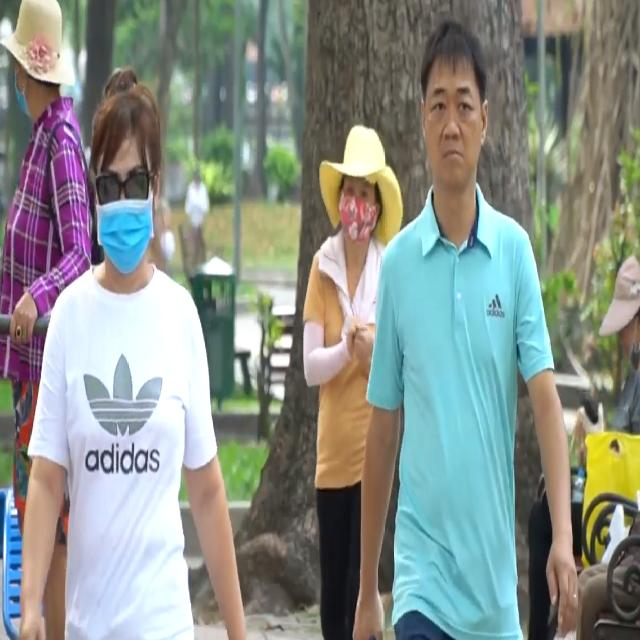hat: (316, 126, 403, 245), (2, 2, 76, 85), (599, 250, 636, 339)
